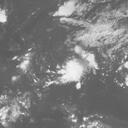cyclone: (60, 57, 88, 86)
